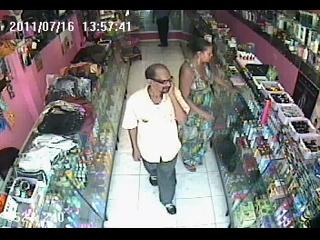Normal: (121, 63, 192, 216), (178, 37, 240, 172), (152, 10, 171, 46)
